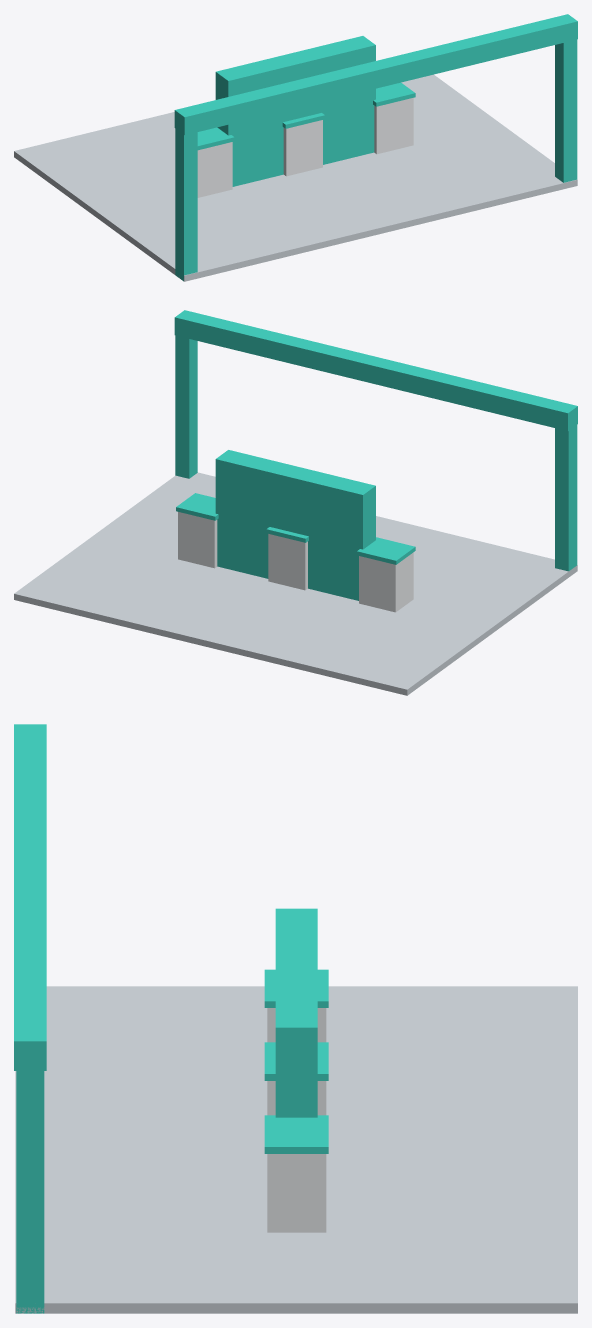
3 views of the same model, one above another, from view 1: azimuth 30°, elevation 25°; view 2: azimuth 150°, elevation 25°; view 3: azimuth 270°, elevation 25° (orthographic). The views are drawn at different scales.
Visible parts, largest first — view 1: Exhibition Booth Concept; view 2: Exhibition Booth Concept; view 3: Exhibition Booth Concept.
Boxes of the visible parts, <box> form: Exhibition Booth Concept: <box>14,14,577,281</box>; Exhibition Booth Concept: <box>14,310,577,695</box>; Exhibition Booth Concept: <box>14,724,577,1313</box>.
Size of the model in its own units: 8 by 3.2 by 6.02.
